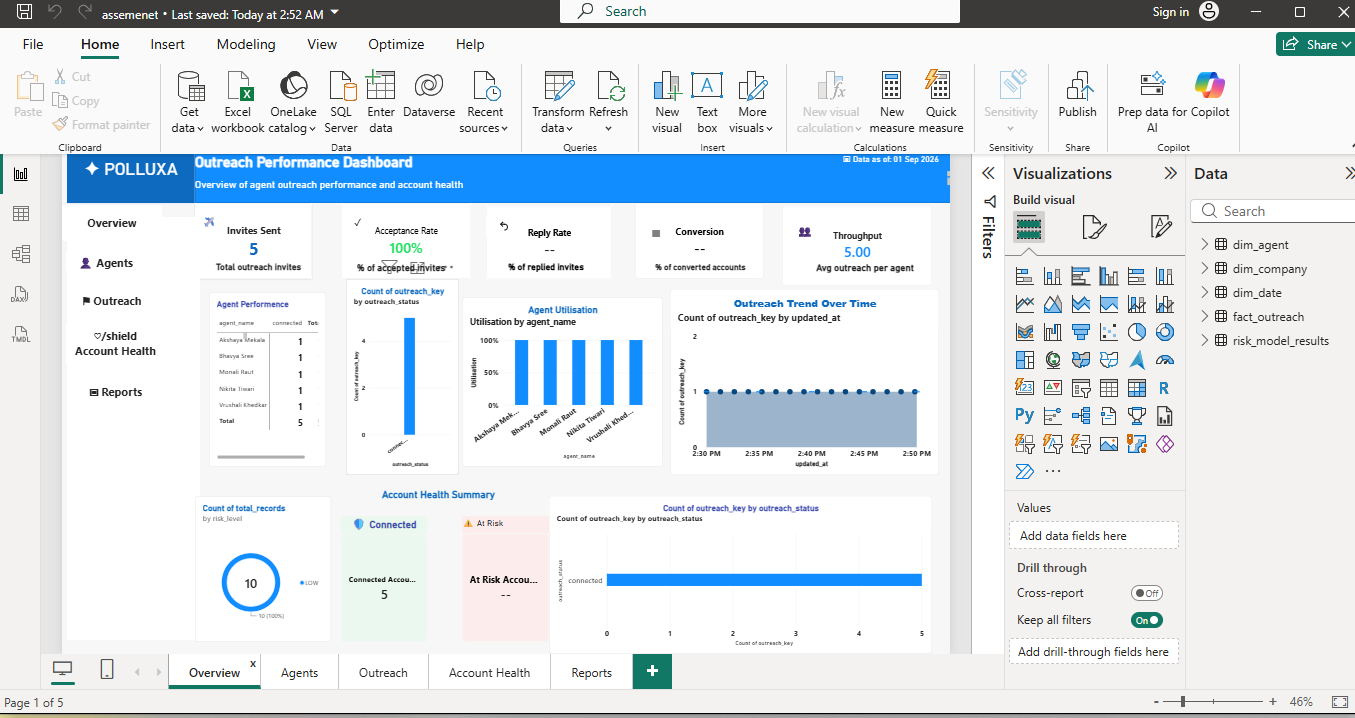

The dashboard page shown, as its layout file describes it:
{"tool":"powerbi","page":{"name":"Overview","canvas":[1920,1080],"ordinal":0},"visuals":[{"type":"cardVisual","fields":{"Data":["dim_agent.Invites Sent"]},"box":[287.3,105.8,252.7,164.2],"z":0},{"type":"cardVisual","fields":{"Data":["dim_agent.Acceptance Rate"]},"box":[602.6,105.8,280.8,164.2],"z":1},{"type":"cardVisual","fields":{"Data":["dim_agent.Reply Rate"]},"box":[915.8,110.2,272.2,159.8],"z":2},{"type":"cardVisual","fields":{"Data":["dim_agent.Conversion"]},"box":[1237.7,105.8,278.6,164.2],"z":3},{"type":"cardVisual","fields":{"Data":["dim_agent.Throughput"]},"box":[1555.2,110.2,324,175],"z":4},{"type":"pivotTable","title":"Agent Performence","fields":{"Columns":["dim_agent.agent_status"],"Rows":["dim_agent.agent_name"],"Values":["CountNonNull(dim_agent.account_tier)"]},"box":[317.5,298.1,252.7,378],"z":5},{"type":"clusteredColumnChart","fields":{"Category":["fact_outreach.outreach_status"],"Y":["CountNonNull(fact_outreach.outreach_key)"]},"box":[613.4,270,244.1,423.4],"z":7},{"type":"clusteredColumnChart","title":"Agent Utilisation","fields":{"Category":["dim_agent.agent_name"],"Y":["dim_agent.Utilisation"]},"box":[864,308.9,434.2,367.2],"z":9},{"type":"lineChart","title":"Outreach Trend Over Time","fields":{"Category":["fact_outreach.updated_at"],"Y":["CountNonNull(fact_outreach.outreach_key)"]},"box":[1313.3,291.6,581,401.8],"z":10},{"type":"clusteredBarChart","title":"Count of outreach_key by outreach_status","fields":{"Category":["fact_outreach.outreach_status"],"Y":["CountNonNull(fact_outreach.outreach_key)"]},"box":[1051.9,738.7,827.3,341.3],"z":11},{"type":"shape","box":[287.3,0,1633,105.8],"z":12},{"type":"textbox","title":"✦ POLLUXA","box":[10.8,0,276.5,105.8],"z":14},{"type":"textbox","title":"Outreach Performance Dashboard","box":[287.3,0,1633,67],"z":15},{"type":"textbox","title":"Overview of agent outreach performance and account health","box":[287.3,54,1613.5,62.6],"z":16},{"type":"textbox","title":"▣ Data as of: 01 Sep 2026","box":[1661,0,259.2,47.5],"z":17},{"type":"shape","box":[10.8,136.1,287.3,913.7],"z":18},{"type":"actionButton","box":[0,110.2,216,77.8],"z":19},{"type":"actionButton","box":[8.6,211.7,170.6,41],"z":21},{"type":"actionButton","box":[10.8,285.1,194.4,64.8],"z":23},{"type":"actionButton","box":[8.6,362.9,213.8,92.9],"z":24},{"type":"actionButton","box":[21.6,483.8,187.9,58.3],"z":25},{"type":"actionButton","box":[287.3,114.5,60.5,67],"z":26},{"type":"textbox","title":"Total outreach invites","box":[317.5,233.3,213.8,23.8],"z":27},{"type":"textbox","title":"   % of accepted invites","box":[637.2,233.3,209.5,23.8],"z":28},{"type":"textbox","title":"% of replied invites","box":[933.1,233.3,224.6,28.1],"z":30},{"type":"actionButton","box":[915.8,129.6,77.8,51.8],"z":31},{"type":"actionButton","box":[613.4,125.3,51.8,41],"z":32},{"type":"textbox","box":[1769,270,151.2,79.9],"z":34},{"type":"textbox","title":"% of converted accounts","box":[1276.6,233.3,205.2,36.7],"z":35},{"type":"actionButton","box":[1248.5,149,69.1,41],"z":36},{"type":"textbox","title":"Avg outreach per agent","box":[1589.8,233.3,289.4,36.7],"z":39},{"type":"actionButton","box":[1574.6,136.1,58.3,58.3],"z":40},{"type":"donutChart","fields":{"Category":["risk_model_results.risk_level"],"Y":["CountNonNull(risk_model_results.total_records)"]},"box":[287.3,738.7,293.8,315.4],"z":41},{"type":"cardVisual","title":"🛡️ Connected","fields":{"Data":["fact_outreach.Connected Accounts"]},"box":[602.6,781.9,185.8,272.2],"z":42},{"type":"cardVisual","title":"⚠️ At Risk","fields":{"Data":["fact_outreach.At Risk Accounts"]},"box":[864,781.9,187.9,272.2],"z":43},{"type":"textbox","box":[386.6,386.6,13,13],"z":44},{"type":"textbox","title":"Account Health Summary","box":[602.6,723.6,421.2,30.2],"z":45}]}

Visuals, with their boxes on the page's 1920x1080 design canvas (x1, y1, x2, y2). These are canvas units, not pixel positions in the 1355x718 screenshot, which may show the page scaled, cropped or inside an application window:
cardVisual - dim_agent.Invites Sent: 287/106/540/270
cardVisual - dim_agent.Acceptance Rate: 603/106/883/270
cardVisual - dim_agent.Reply Rate: 916/110/1188/270
cardVisual - dim_agent.Conversion: 1238/106/1516/270
cardVisual - dim_agent.Throughput: 1555/110/1879/285
"Agent Performence" pivotTable: 318/298/570/676
clusteredColumnChart - fact_outreach.outreach_status x CountNonNull(fact_outreach.outreach_key): 613/270/858/693
"Agent Utilisation" clusteredColumnChart: 864/309/1298/676
"Outreach Trend Over Time" lineChart: 1313/292/1894/693
"Count of outreach_key by outreach_status" clusteredBarChart: 1052/739/1879/1080
shape: 287/0/1920/106
"✦ POLLUXA" textbox: 11/0/287/106
"Outreach Performance Dashboard" textbox: 287/0/1920/67
"Overview of agent outreach performance and account health" textbox: 287/54/1901/117
"▣ Data as of: 01 Sep 2026" textbox: 1661/0/1920/48
shape: 11/136/298/1050
actionButton: 0/110/216/188
actionButton: 9/212/179/253
actionButton: 11/285/205/350
actionButton: 9/363/222/456
actionButton: 22/484/210/542
actionButton: 287/114/348/182
"Total outreach invites" textbox: 318/233/531/257
"   % of accepted invites" textbox: 637/233/847/257
"% of replied invites" textbox: 933/233/1158/261
actionButton: 916/130/994/181
actionButton: 613/125/665/166
textbox: 1769/270/1920/350
"% of converted accounts" textbox: 1277/233/1482/270
actionButton: 1248/149/1318/190
"Avg outreach per agent" textbox: 1590/233/1879/270
actionButton: 1575/136/1633/194
donutChart - risk_model_results.risk_level x CountNonNull(risk_model_results.total_records): 287/739/581/1054
"🛡️ Connected" cardVisual: 603/782/788/1054
"⚠️ At Risk" cardVisual: 864/782/1052/1054
textbox: 387/387/400/400
"Account Health Summary" textbox: 603/724/1024/754
